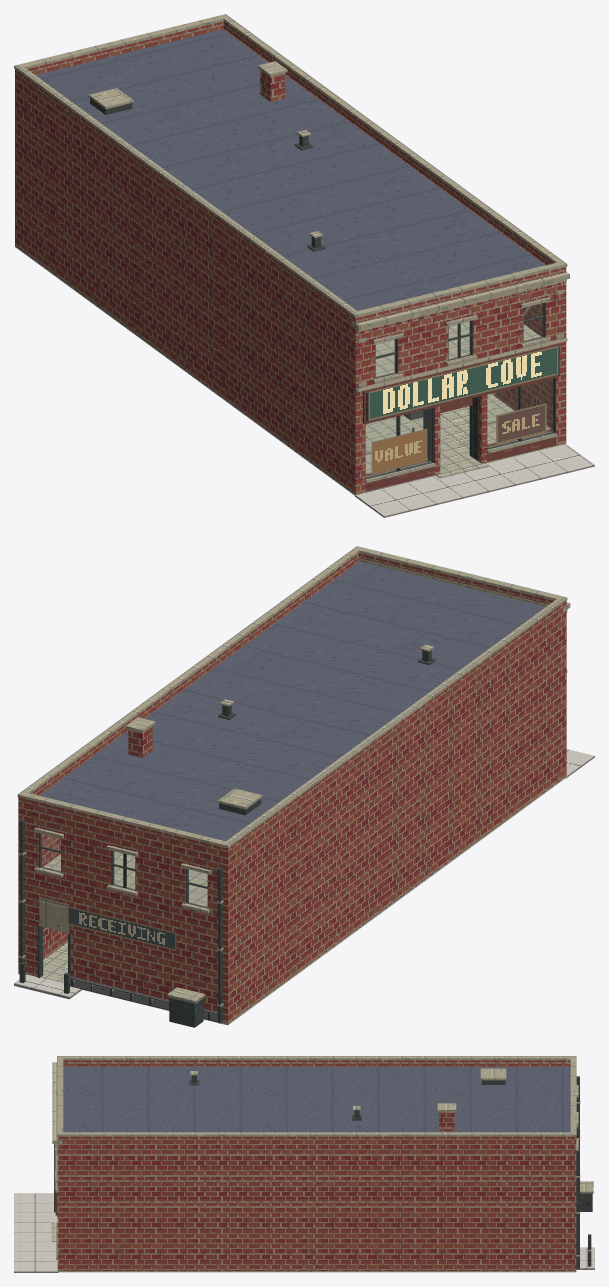
The model's file is marlow-2000.glb.
3 views of the same model, one above another, from view 1: azimuth 30°, elevation 25°; view 2: azimuth 150°, elevation 25°; view 3: azimuth 270°, elevation 25° (orthographic). The views are drawn at different scales.
Parts seen in each view (by area): view 1: building_shell, roof_and_parapet, Shared street sidewalk, sign_name, sign_value, sign_sale, fixed_shop_fixtures; view 2: building_shell, roof_and_parapet, sign_receiving, lot, Rear receiving pad; view 3: building_shell, roof_and_parapet, Shared street sidewalk, lot.
Part boxes in pixels (left/top/right/bottom): building_shell: left=15, top=29, right=567, bottom=495; roof_and_parapet: left=14, top=14, right=569, bottom=333; Shared street sidewalk: left=355, top=444, right=594, bottom=517; sign_name: left=368, top=346, right=558, bottom=420; sign_value: left=371, top=428, right=427, bottom=474; sign_sale: left=496, top=403, right=546, bottom=444; fixed_shop_fixtures: left=365, top=397, right=550, bottom=476; building_shell: left=18, top=561, right=567, bottom=1025; roof_and_parapet: left=17, top=546, right=570, bottom=858; sign_receiving: left=67, top=906, right=176, bottom=950; lot: left=19, top=962, right=205, bottom=1027; Rear receiving pad: left=14, top=974, right=81, bottom=999; building_shell: left=51, top=1066, right=580, bottom=1272; roof_and_parapet: left=52, top=1056, right=576, bottom=1146; Shared street sidewalk: left=14, top=1193, right=58, bottom=1272; lot: left=580, top=1181, right=593, bottom=1266.
Size of what is drawn, in the model's own units: 10.05 by 9.06 by 31.36.
11 materials, 11 textured.
